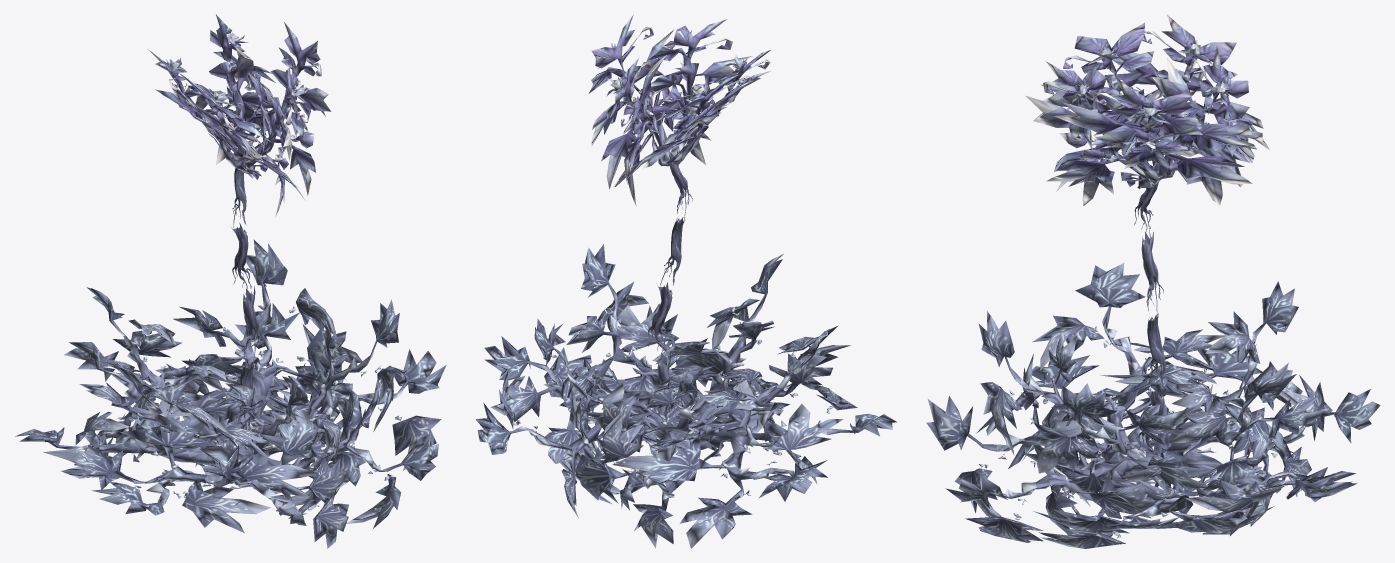
File: moonlit_lotus.glb
3 views of the same model, side by side, from view 1: azimuth 30°, elevation 25°; view 2: azimuth 150°, elevation 25°; view 3: azimuth 270°, elevation 25° (orthographic). The views are drawn at different scales.
Parts seen in each view (by area): view 1: Mesh; view 2: Mesh; view 3: Mesh.
Boxes of the visible parts, x1,y1,x2,y2 form: Mesh: (15,14,446,548); Mesh: (475,14,896,548); Mesh: (926,14,1380,548).
Size of the model in its own units: 1.21 by 1.4 by 1.19.
1 material, 1 textured.
